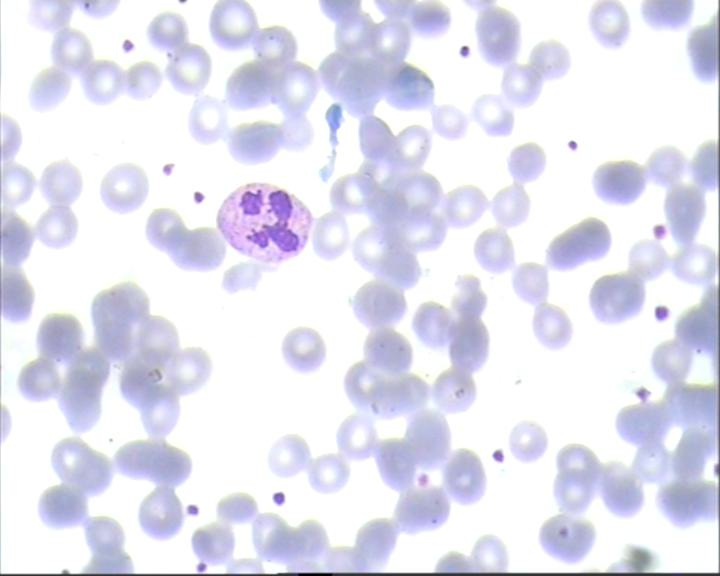neut: (211, 181, 319, 267)
